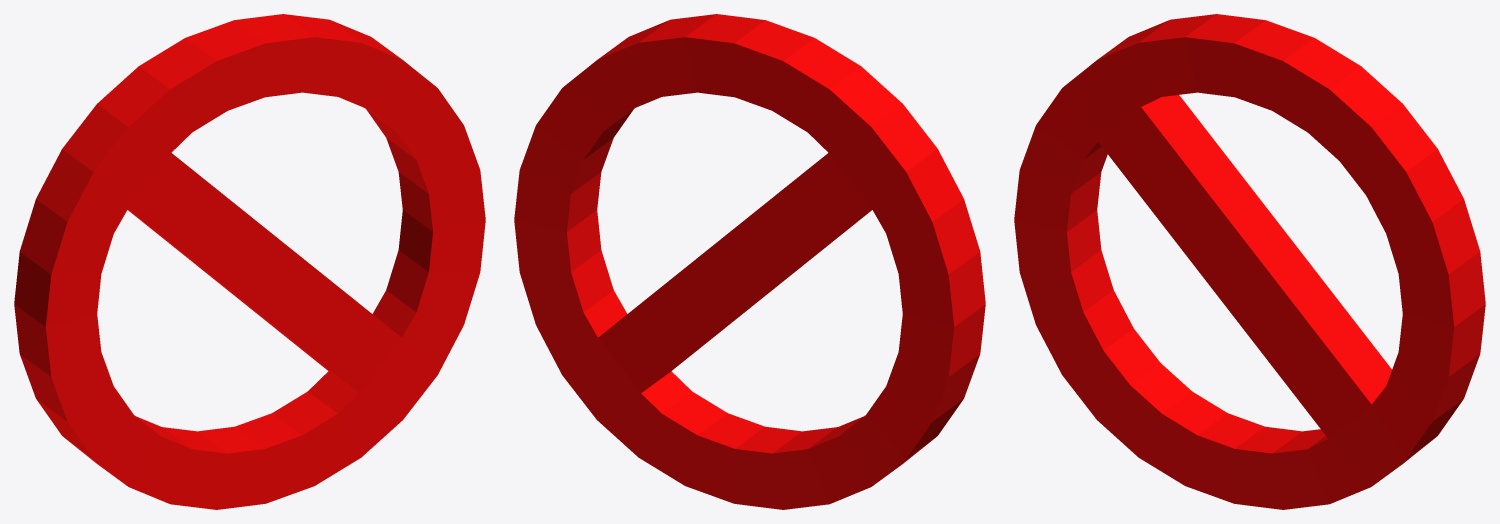
Rendered from BlankSign.fbx.
The picture shows the model from 3 angles, left to right: view 1: azimuth 30°, elevation 25°; view 2: azimuth 150°, elevation 25°; view 3: azimuth 330°, elevation 25°; orthographic projection.
Parts seen in each view (by area): view 1: BlankSign; view 2: BlankSign; view 3: BlankSign.
Boxes of the visible parts, bbox=[...] form: BlankSign: bbox=[14, 14, 485, 509]; BlankSign: bbox=[514, 14, 985, 509]; BlankSign: bbox=[1014, 14, 1485, 509].
Size of the model in its own units: 80 by 80 by 9.95.
